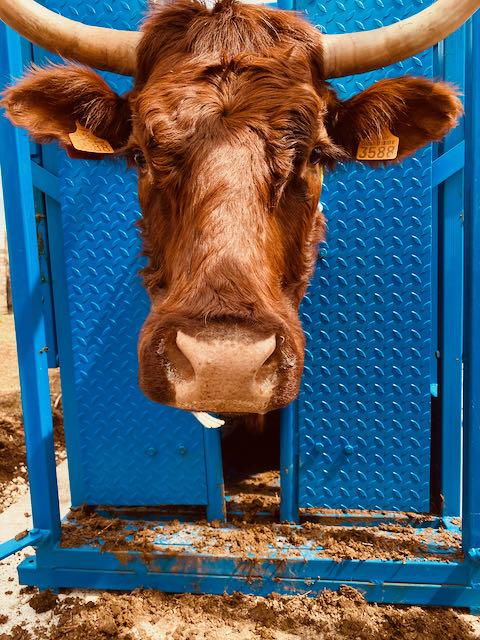muzzles: (131, 308, 313, 424)
